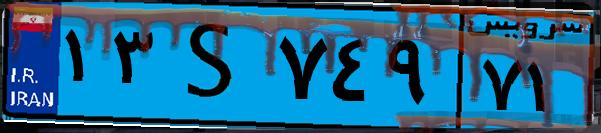1: (57, 26, 110, 100), (525, 38, 570, 115)
3: (110, 28, 158, 98)
4: (330, 28, 385, 110)
7: (270, 28, 330, 110), (475, 38, 525, 113)
9: (385, 28, 445, 110)
S: (158, 12, 270, 120)
